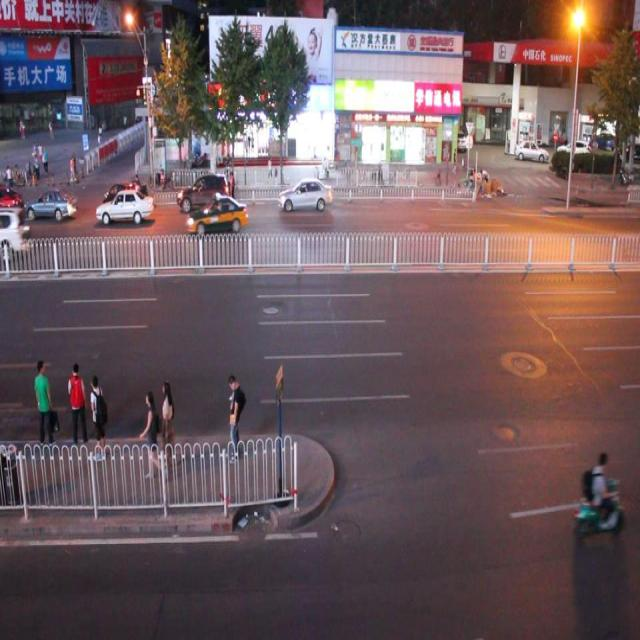car: (186, 194, 248, 236), (176, 170, 230, 210), (95, 190, 154, 222), (279, 176, 331, 212), (26, 190, 77, 220), (1, 208, 30, 260), (105, 181, 138, 215), (1, 182, 21, 216)
